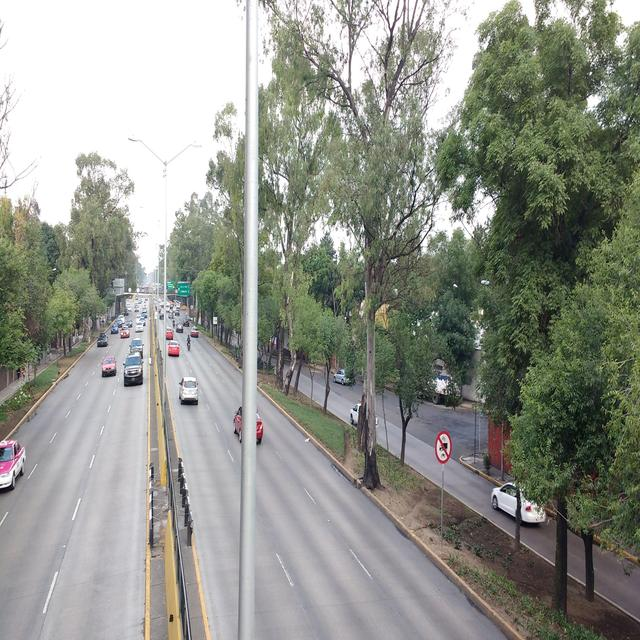Barrier: (150, 295, 181, 639)
Car: (97, 298, 188, 386), (490, 481, 534, 523), (178, 326, 198, 404), (333, 370, 359, 423), (0, 439, 26, 489), (233, 405, 262, 443), (101, 356, 116, 376)
Vegetation: (166, 99, 244, 370), (115, 244, 186, 318), (106, 287, 107, 315)
